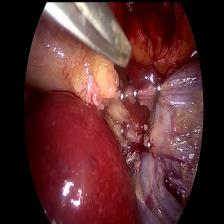Scissors: (40, 0, 133, 71)
